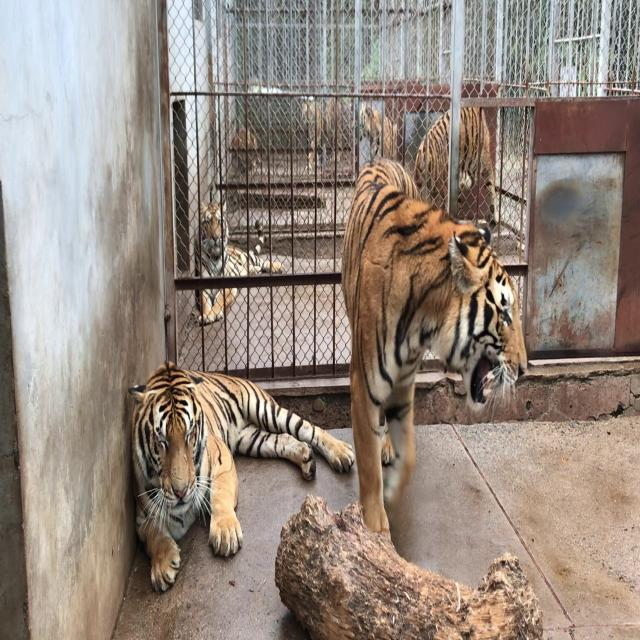Tiger: (309, 114, 556, 586), (109, 344, 354, 614), (191, 196, 282, 324), (414, 99, 500, 229), (300, 95, 349, 167), (353, 96, 399, 159), (231, 129, 259, 176)
